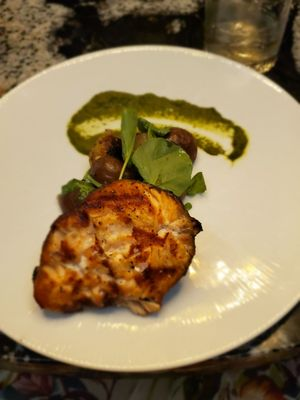pizza: (203, 0, 293, 74)
sushi: (0, 36, 298, 390)
